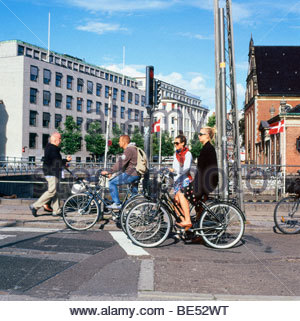bikerider: (128, 131, 254, 255), (69, 134, 155, 234)
